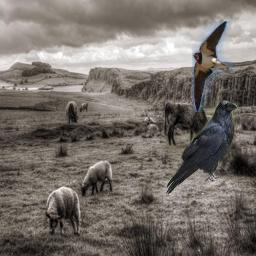Crow: (166, 100, 237, 194)
Swallow: (192, 21, 246, 112)
